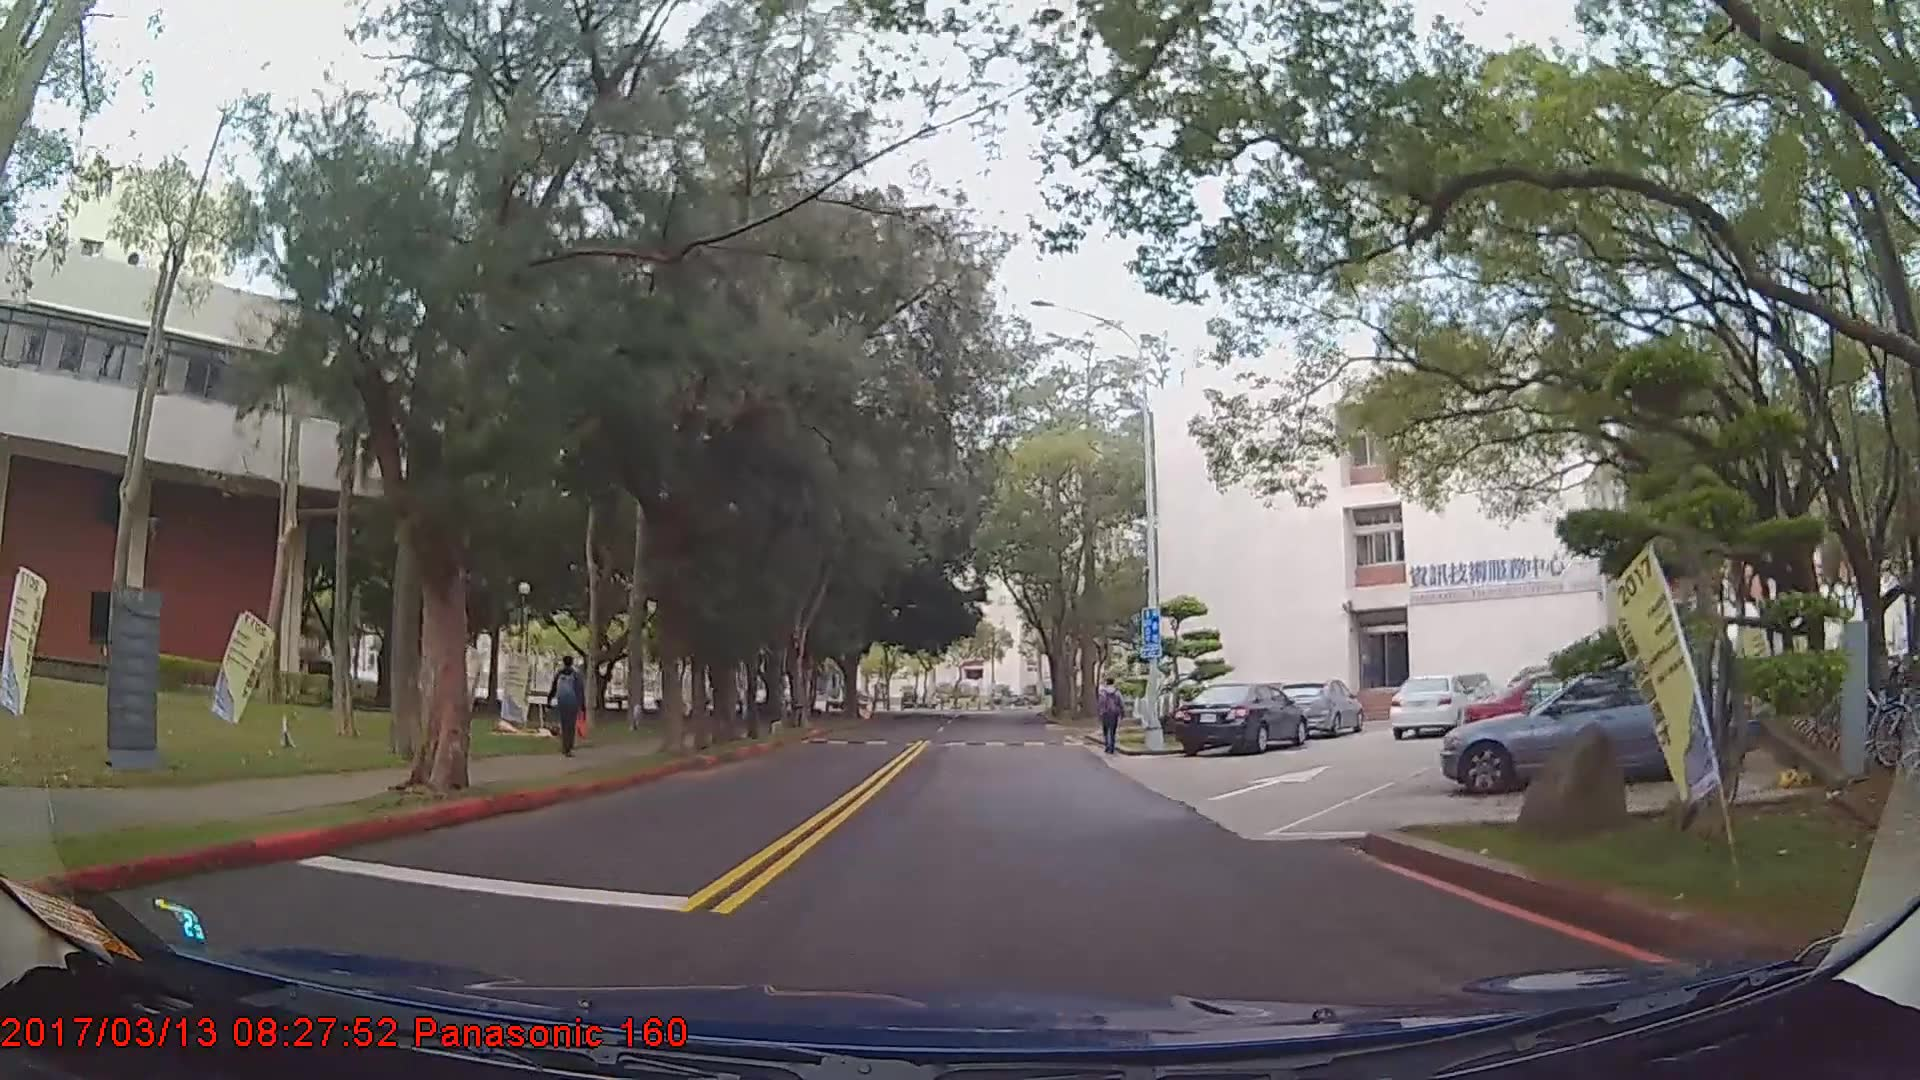pedestrian: (549, 656, 585, 758), (1097, 681, 1126, 759)
vehicle: (1442, 664, 1742, 794), (1174, 680, 1310, 756), (1384, 673, 1470, 739), (1279, 678, 1365, 738)
